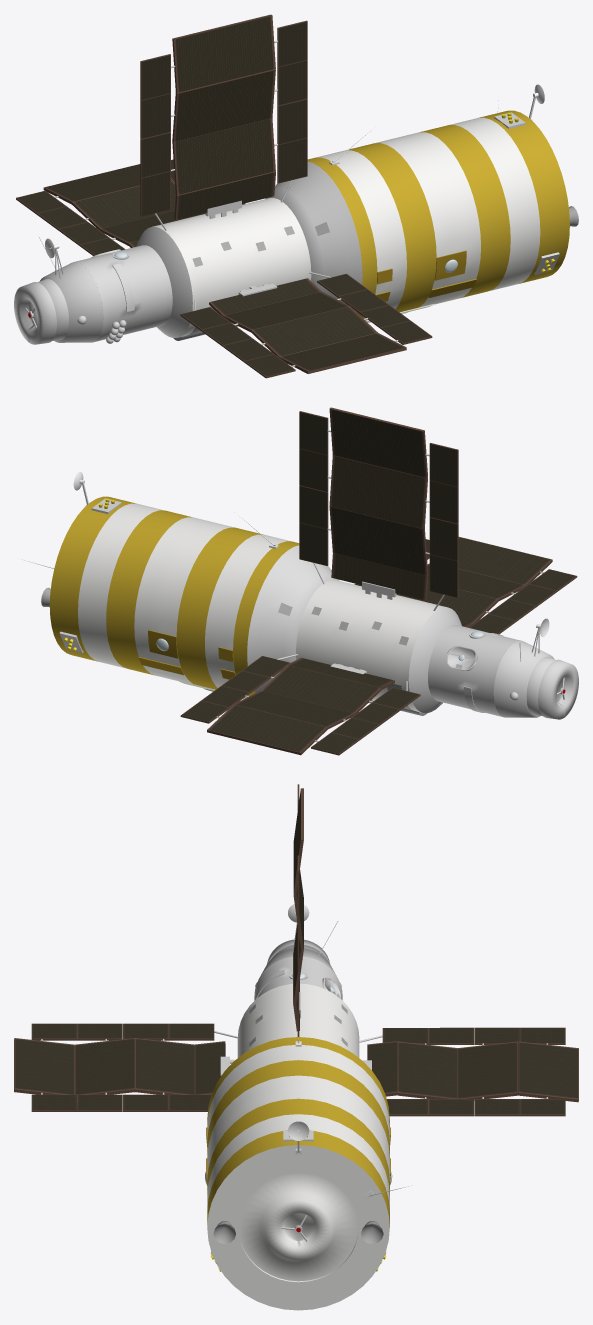
Rendered from salyut_7.glb.
3 views of the same model, one above another, from view 1: azimuth 30°, elevation 25°; view 2: azimuth 150°, elevation 25°; view 3: azimuth 270°, elevation 25° (orthographic). The views are drawn at different scales.
Visible parts, largest first — view 1: mesh01_offwhite_0, mesh33_offwhite_0, mesh26_metal_0, mesh16_metal_0, cube02, cube06, mesh07_mainmodule_bronz_0, mesh05_mainmodule_bronz_0, cube01, mesh08_mainmodule_bronz_0, cube18, cylinder06 (+32 smaller); view 2: mesh01_offwhite_0, mesh33_offwhite_0, mesh26_metal_0, cube01, mesh07_mainmodule_bronz_0, mesh05_mainmodule_bronz_0, mesh16_metal_0, cube02, cube06, mesh08_mainmodule_bronz_0, cube11, cube13 (+33 smaller); view 3: mesh01_offwhite_0, mesh33_offwhite_0, cube11, cube10, cube18, cube19, cube13, cube21, mesh07_mainmodule_bronz_0, mesh05_mainmodule_bronz_0, mesh08_mainmodule_bronz_0, mesh16_metal_0 (+20 smaller).
Boxes of the visible parts, left/top/right/bottom form: mesh01_offwhite_0: left=316, top=117, right=540, bottom=320; mesh33_offwhite_0: left=152, top=198, right=311, bottom=337; mesh26_metal_0: left=265, top=161, right=362, bottom=311; mesh16_metal_0: left=75, top=245, right=172, bottom=342; cube02: left=172, top=14, right=275, bottom=92; cube06: left=172, top=118, right=275, bottom=195; mesh07_mainmodule_bronz_0: left=420, top=125, right=510, bottom=298; mesh05_mainmodule_bronz_0: left=346, top=143, right=436, bottom=312; cube01: left=172, top=69, right=275, bottom=141; mesh08_mainmodule_bronz_0: left=478, top=110, right=569, bottom=283; cube18: left=251, top=306, right=377, bottom=357; cylinder06: left=40, top=262, right=103, bottom=342; mesh01_offwhite_0: left=78, top=503, right=290, bottom=687; mesh33_offwhite_0: left=296, top=580, right=446, bottom=713; mesh26_metal_0: left=247, top=545, right=339, bottom=692; cube01: left=329, top=455, right=427, bottom=529; mesh07_mainmodule_bronz_0: left=106, top=510, right=191, bottom=675; mesh05_mainmodule_bronz_0: left=176, top=527, right=263, bottom=689; mesh16_metal_0: left=428, top=625, right=521, bottom=717; cube02: left=329, top=407, right=427, bottom=477; cube06: left=329, top=506, right=427, bottom=575; mesh08_mainmodule_bronz_0: left=49, top=496, right=135, bottom=661; cube11: left=207, top=704, right=327, bottom=755; cube13: left=261, top=665, right=381, bottom=714; mesh01_offwhite_0: left=207, top=1045, right=389, bottom=1310; mesh33_offwhite_0: left=237, top=983, right=359, bottom=1057; cube11: left=518, top=1041, right=578, bottom=1102; cube10: left=458, top=1041, right=518, bottom=1100; cube18: left=74, top=1038, right=135, bottom=1094; cube19: left=14, top=1038, right=74, bottom=1094; cube13: left=397, top=1041, right=457, bottom=1098; cube21: left=135, top=1038, right=194, bottom=1094; mesh07_mainmodule_bronz_0: left=207, top=1098, right=389, bottom=1195; mesh05_mainmodule_bronz_0: left=207, top=1060, right=389, bottom=1157; mesh08_mainmodule_bronz_0: left=207, top=1130, right=389, bottom=1226; mesh16_metal_0: left=254, top=956, right=342, bottom=1000.
Bounding box in the file's own units: 531 × 312 × 464.
13 materials, 1 textured.
